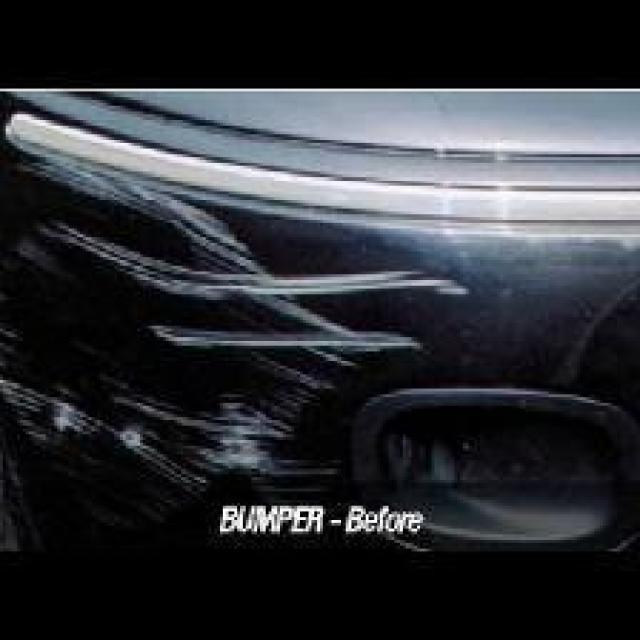damaged: (0, 137, 471, 508)
